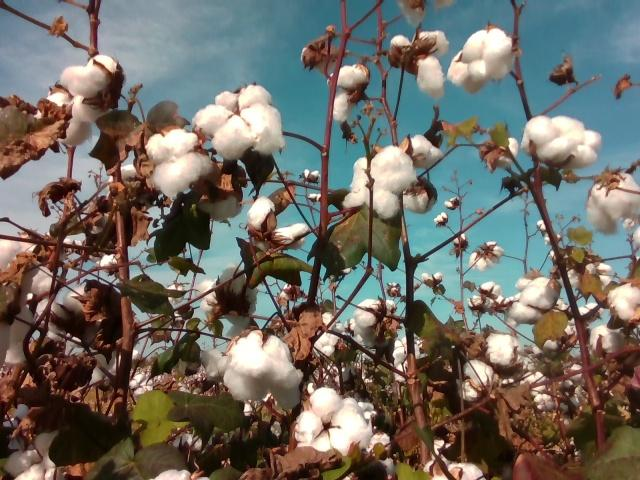cotton_ready: (194, 85, 286, 159), (225, 332, 301, 409), (294, 389, 371, 459), (346, 147, 418, 218), (147, 130, 215, 197), (448, 29, 516, 92), (523, 116, 604, 166), (388, 32, 448, 98), (195, 267, 259, 327), (62, 55, 119, 121), (35, 286, 97, 343), (587, 171, 640, 235), (0, 236, 56, 294), (35, 91, 91, 147), (250, 198, 309, 251), (4, 432, 60, 480), (343, 433, 396, 480), (327, 65, 368, 123), (510, 278, 560, 323), (352, 300, 396, 351), (62, 343, 114, 385), (0, 301, 31, 367), (461, 359, 497, 400), (399, 0, 455, 26), (107, 166, 144, 202), (610, 284, 640, 323), (424, 438, 456, 474), (410, 136, 446, 168), (314, 314, 341, 355), (486, 332, 517, 367), (591, 325, 629, 353), (403, 187, 437, 216), (431, 464, 487, 480), (491, 138, 519, 164), (151, 469, 212, 480)
